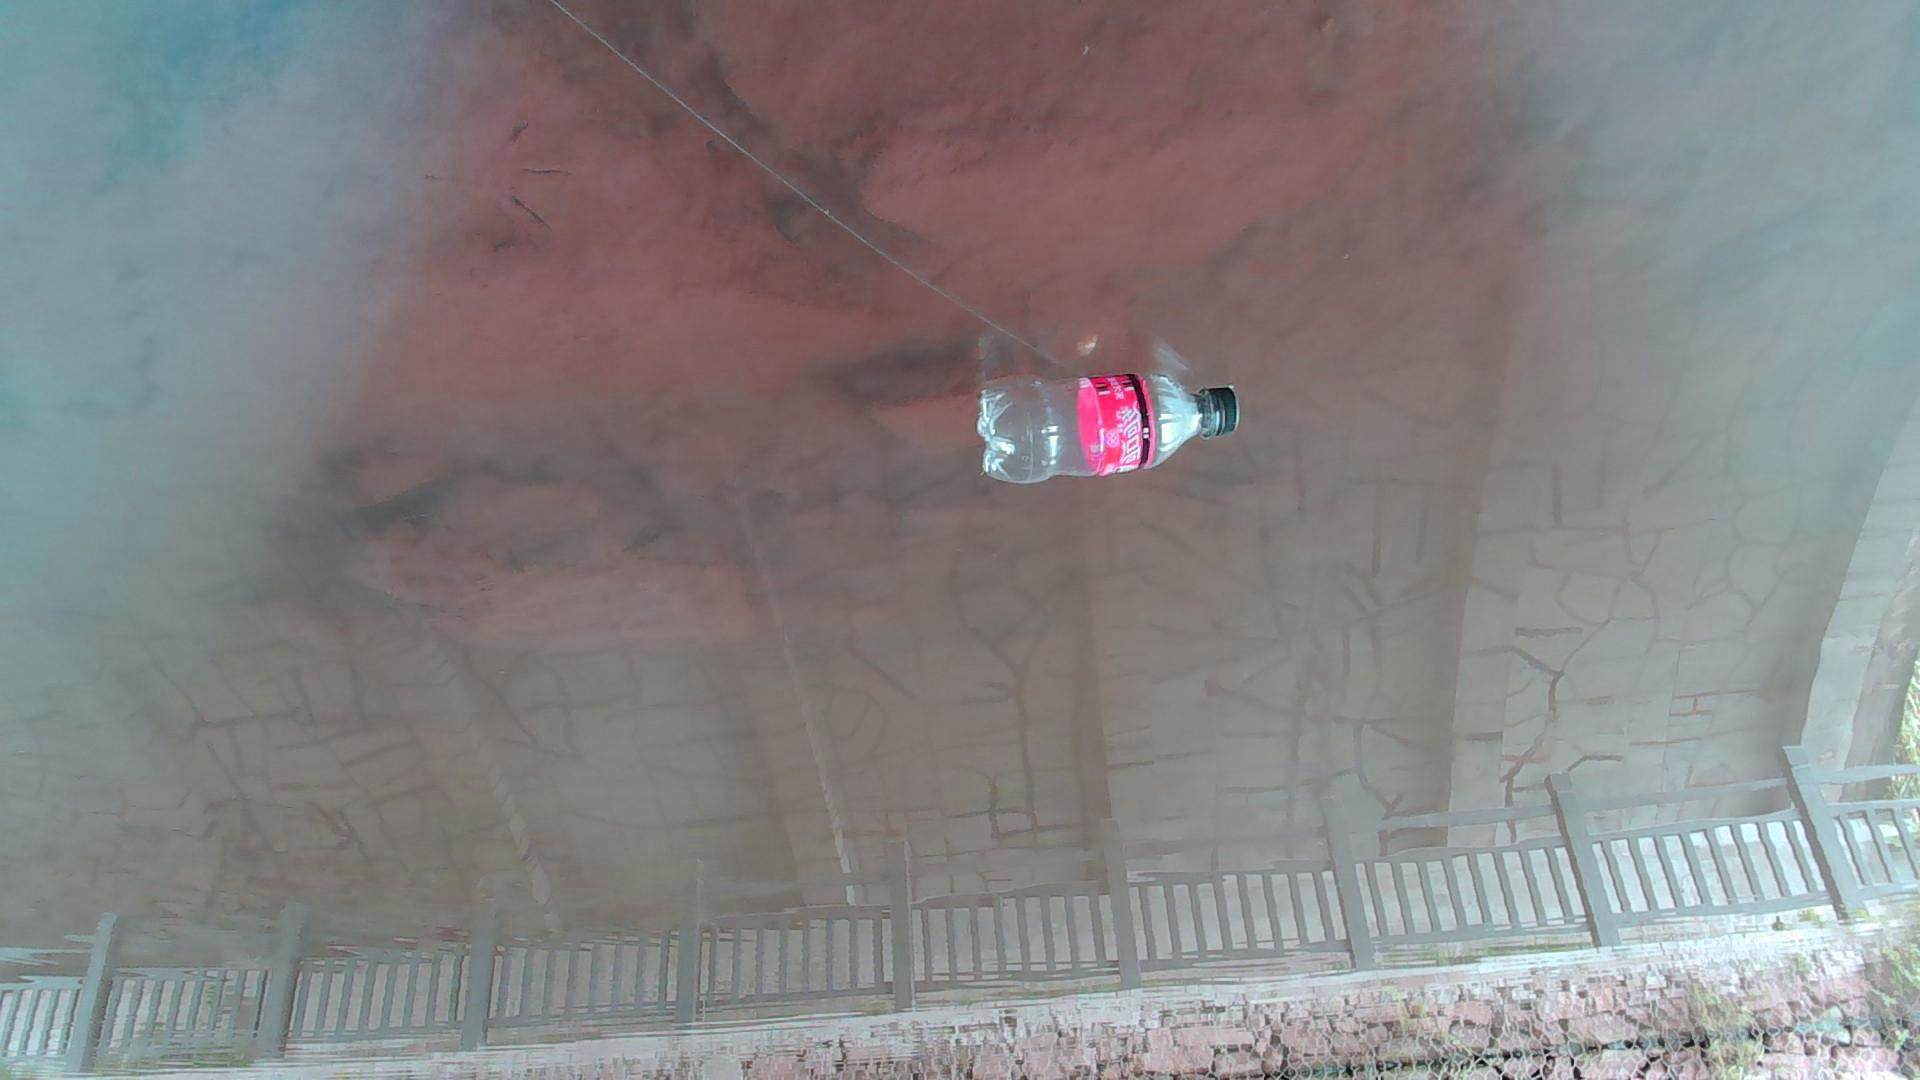Plastic: (969, 365, 1247, 496)
